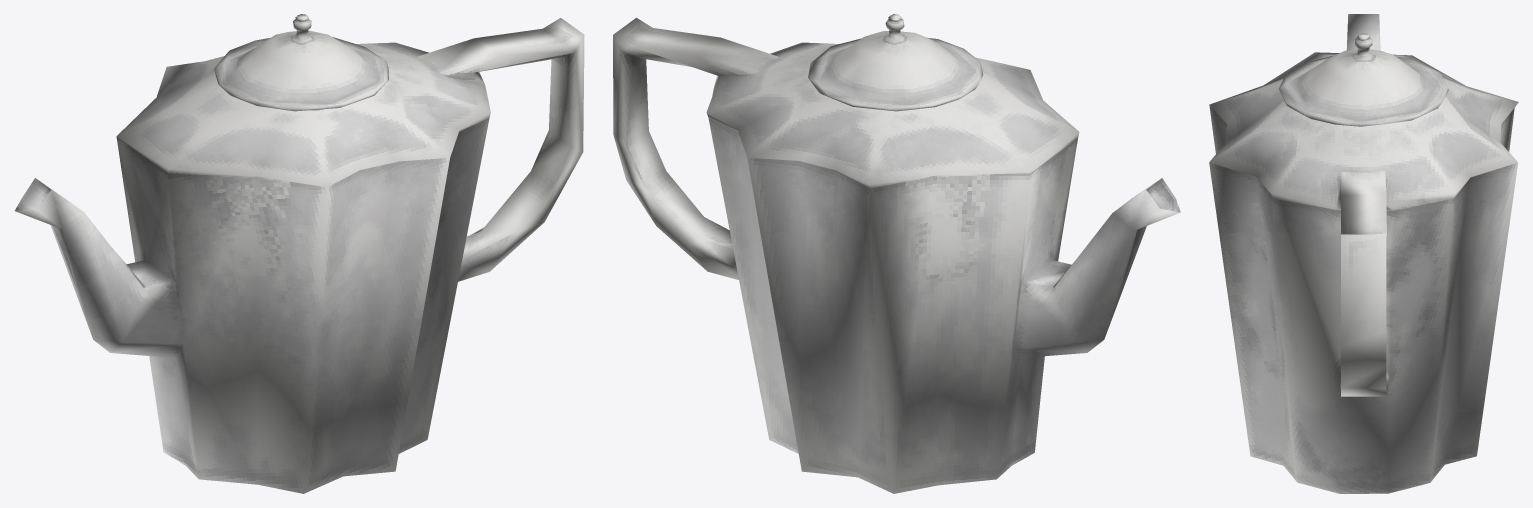
The model's file is teapot.glb.
3 renders of one model, left to right at view 1: azimuth 30°, elevation 25°; view 2: azimuth 150°, elevation 25°; view 3: azimuth 270°, elevation 25°, orthographic. The views are drawn at different scales.
Parts seen in each view (by area): view 1: teapot; view 2: teapot; view 3: teapot.
Part boxes in pixels (x1,y1,x2,y2): teapot: (14,14,584,493); teapot: (613,14,1180,493); teapot: (1209,14,1518,493).
Size of the model in its own units: 0.3592 by 0.2593 by 0.1797.
Materials: 1 (1 with a texture image).
